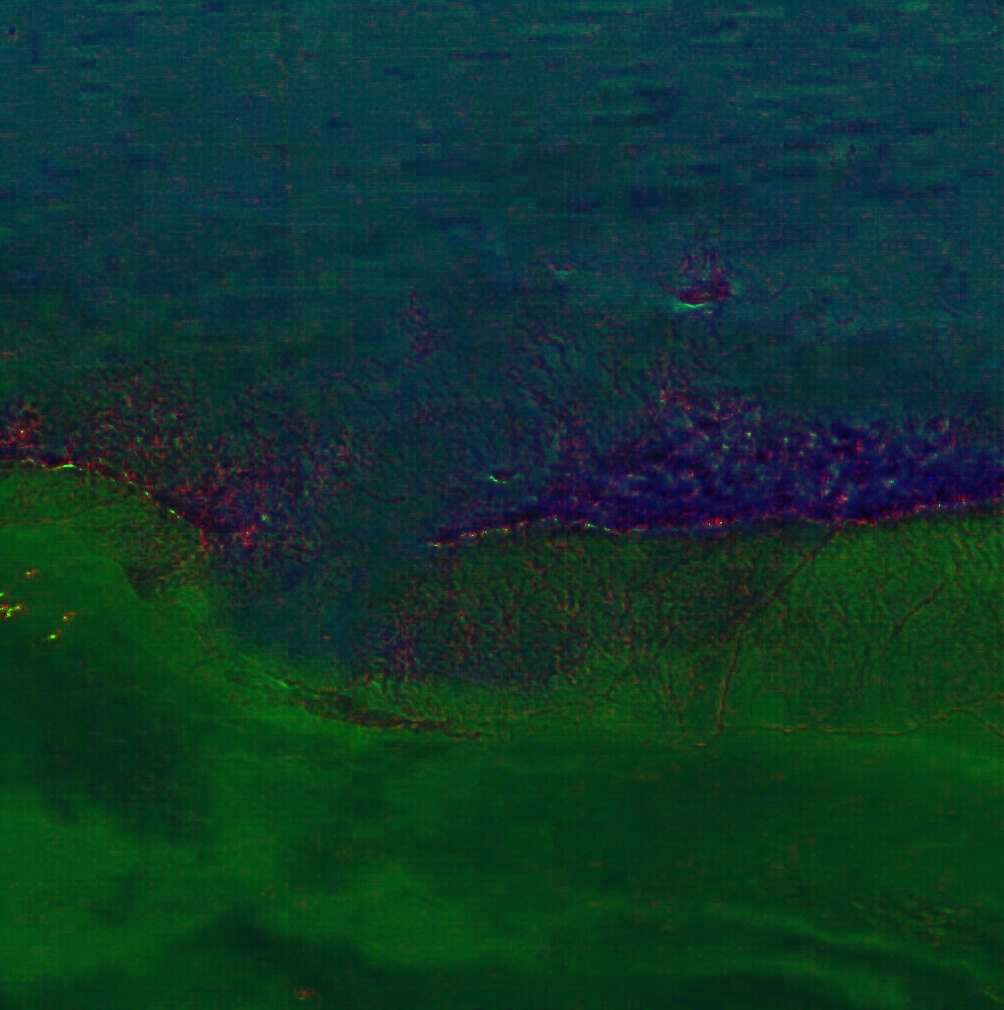rip_current: (211, 214, 543, 699)
